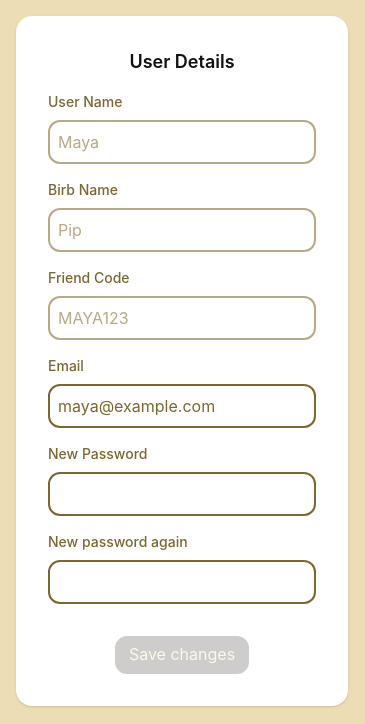
Test: Profile page › keeps save disabled until a valid change is made
Expected: the button "Save changes" is disabled, [115,636,249,674]
Expected: the field labelled "User Name" is disabled, [48,120,316,164]
Replace the text in the field labelled "Email" with "maya.new@example.com" at point(182, 406), box [48,384,316,428]
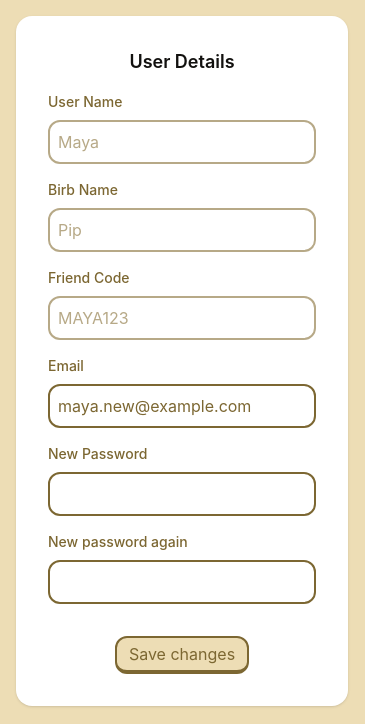
Result: the button "Save changes" is enabled at [115,636,249,674]
